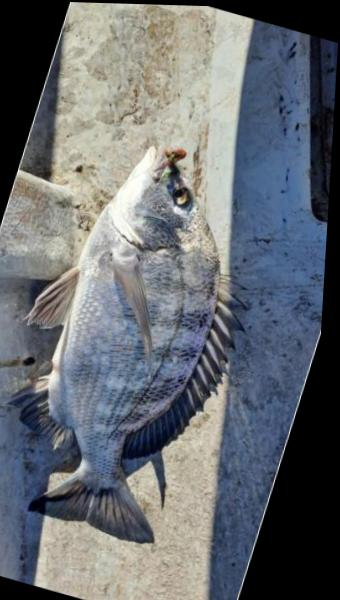fish: (15, 143, 256, 542)
